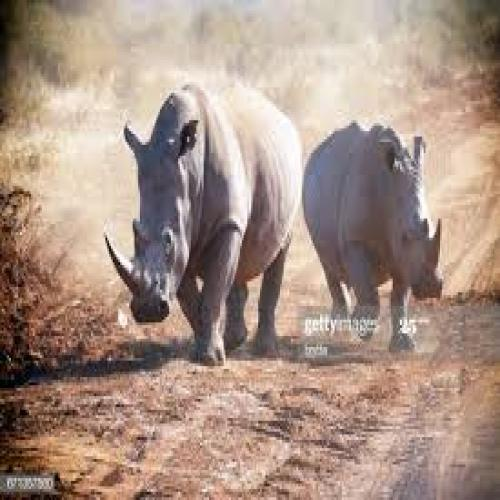rhino-endangered: (102, 83, 302, 368), (300, 120, 445, 355)
